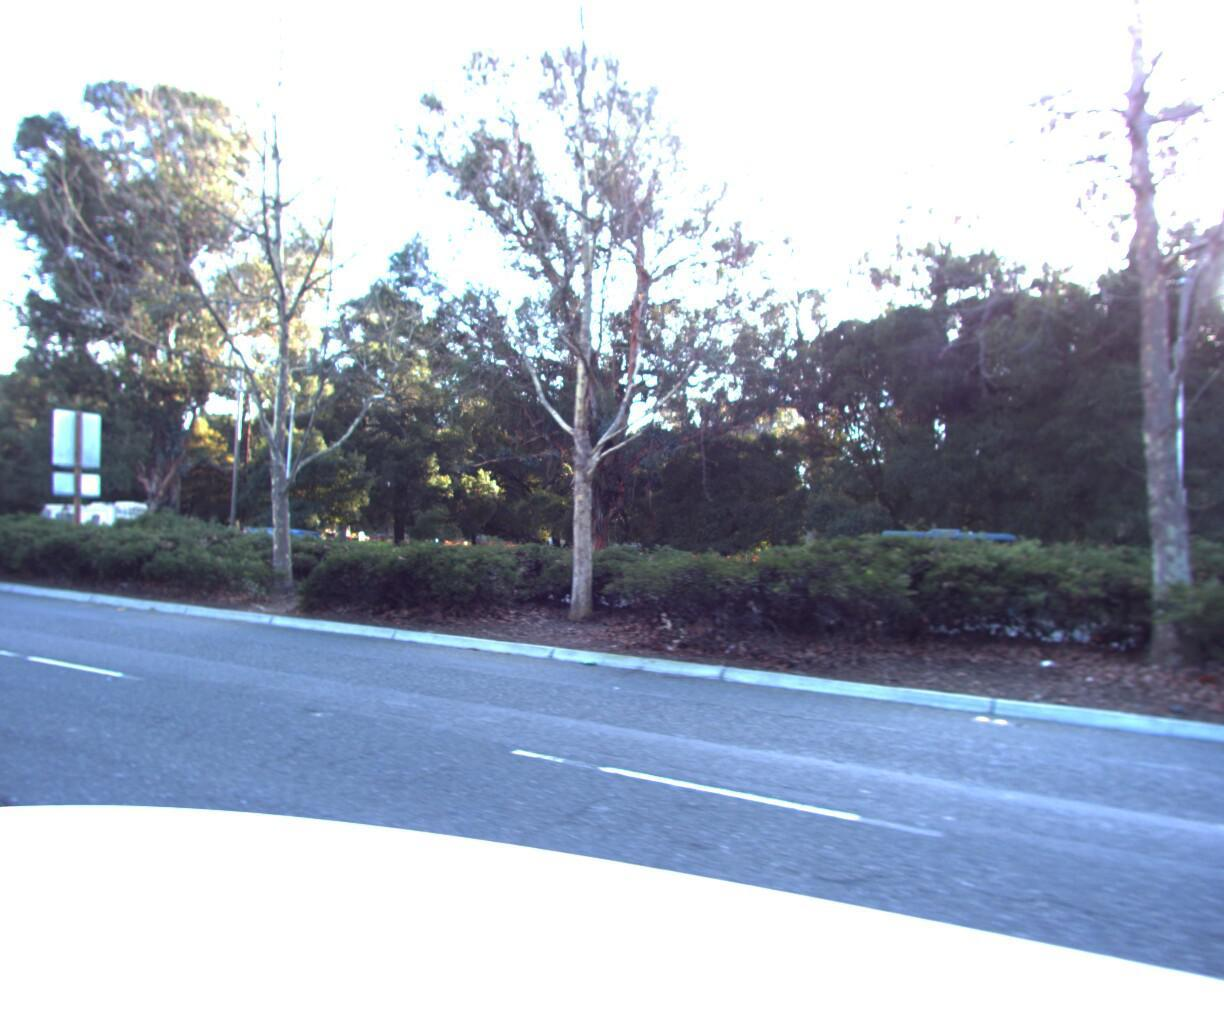other_vehicle: (28, 500, 160, 564)
